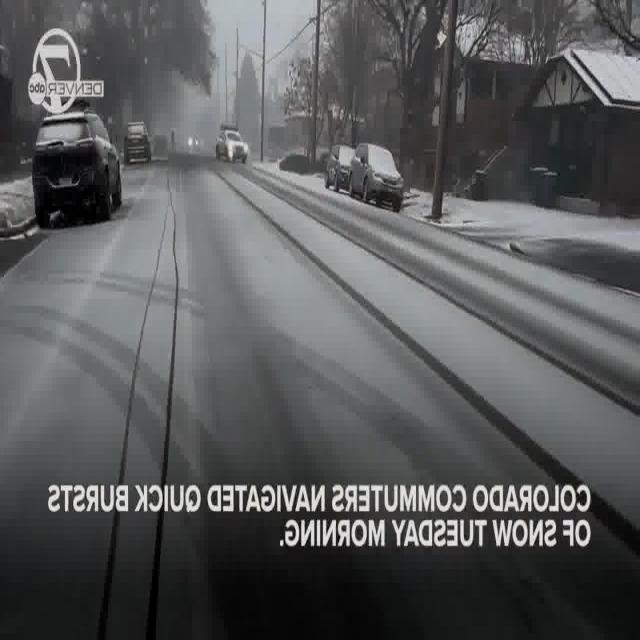Car: (28, 105, 129, 228), (349, 136, 404, 215), (118, 102, 156, 165), (212, 120, 258, 166), (323, 138, 357, 198)
